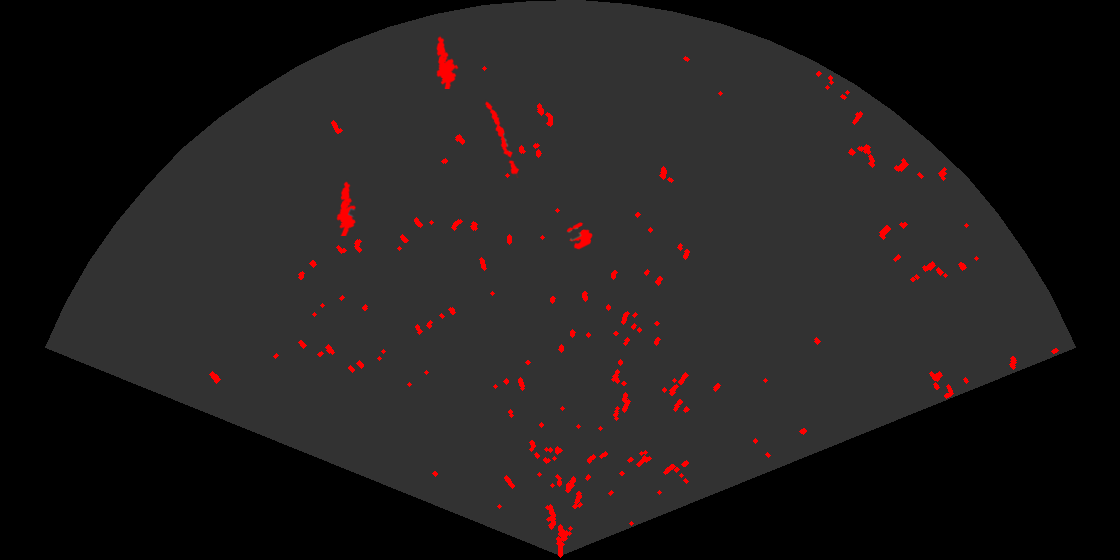ball: (565, 221, 594, 251)
chain: (484, 99, 521, 178)
frogman: (435, 35, 460, 89), (335, 179, 358, 236)
